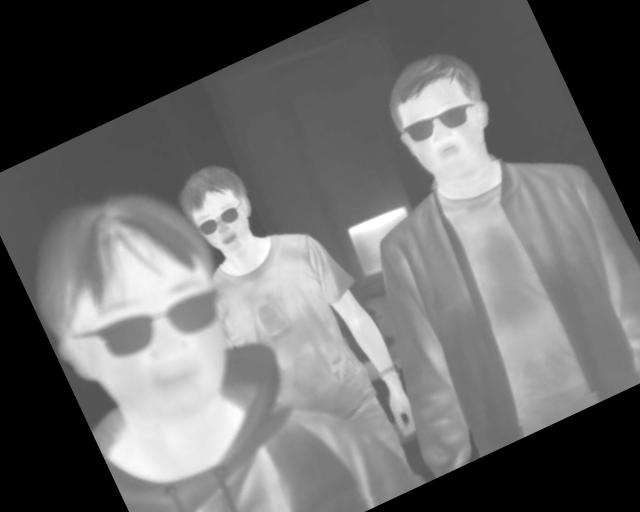face: (8, 163, 267, 454), (370, 39, 514, 197), (170, 152, 272, 267)
